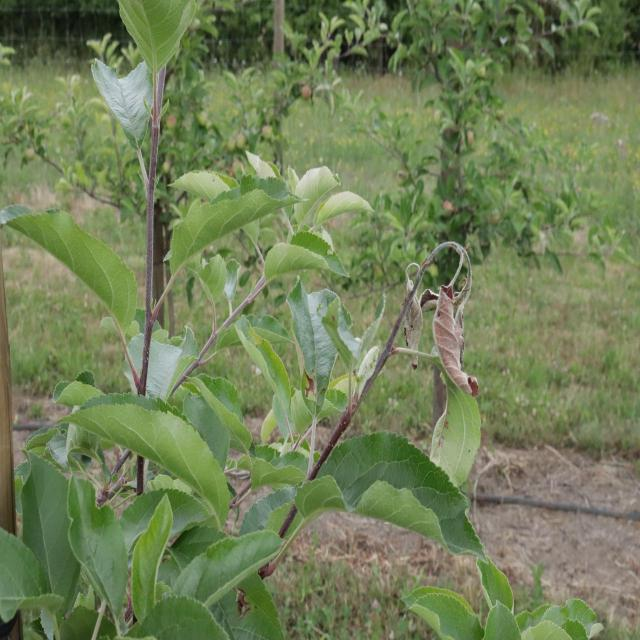-FireBlight-: (404, 235, 480, 397)
